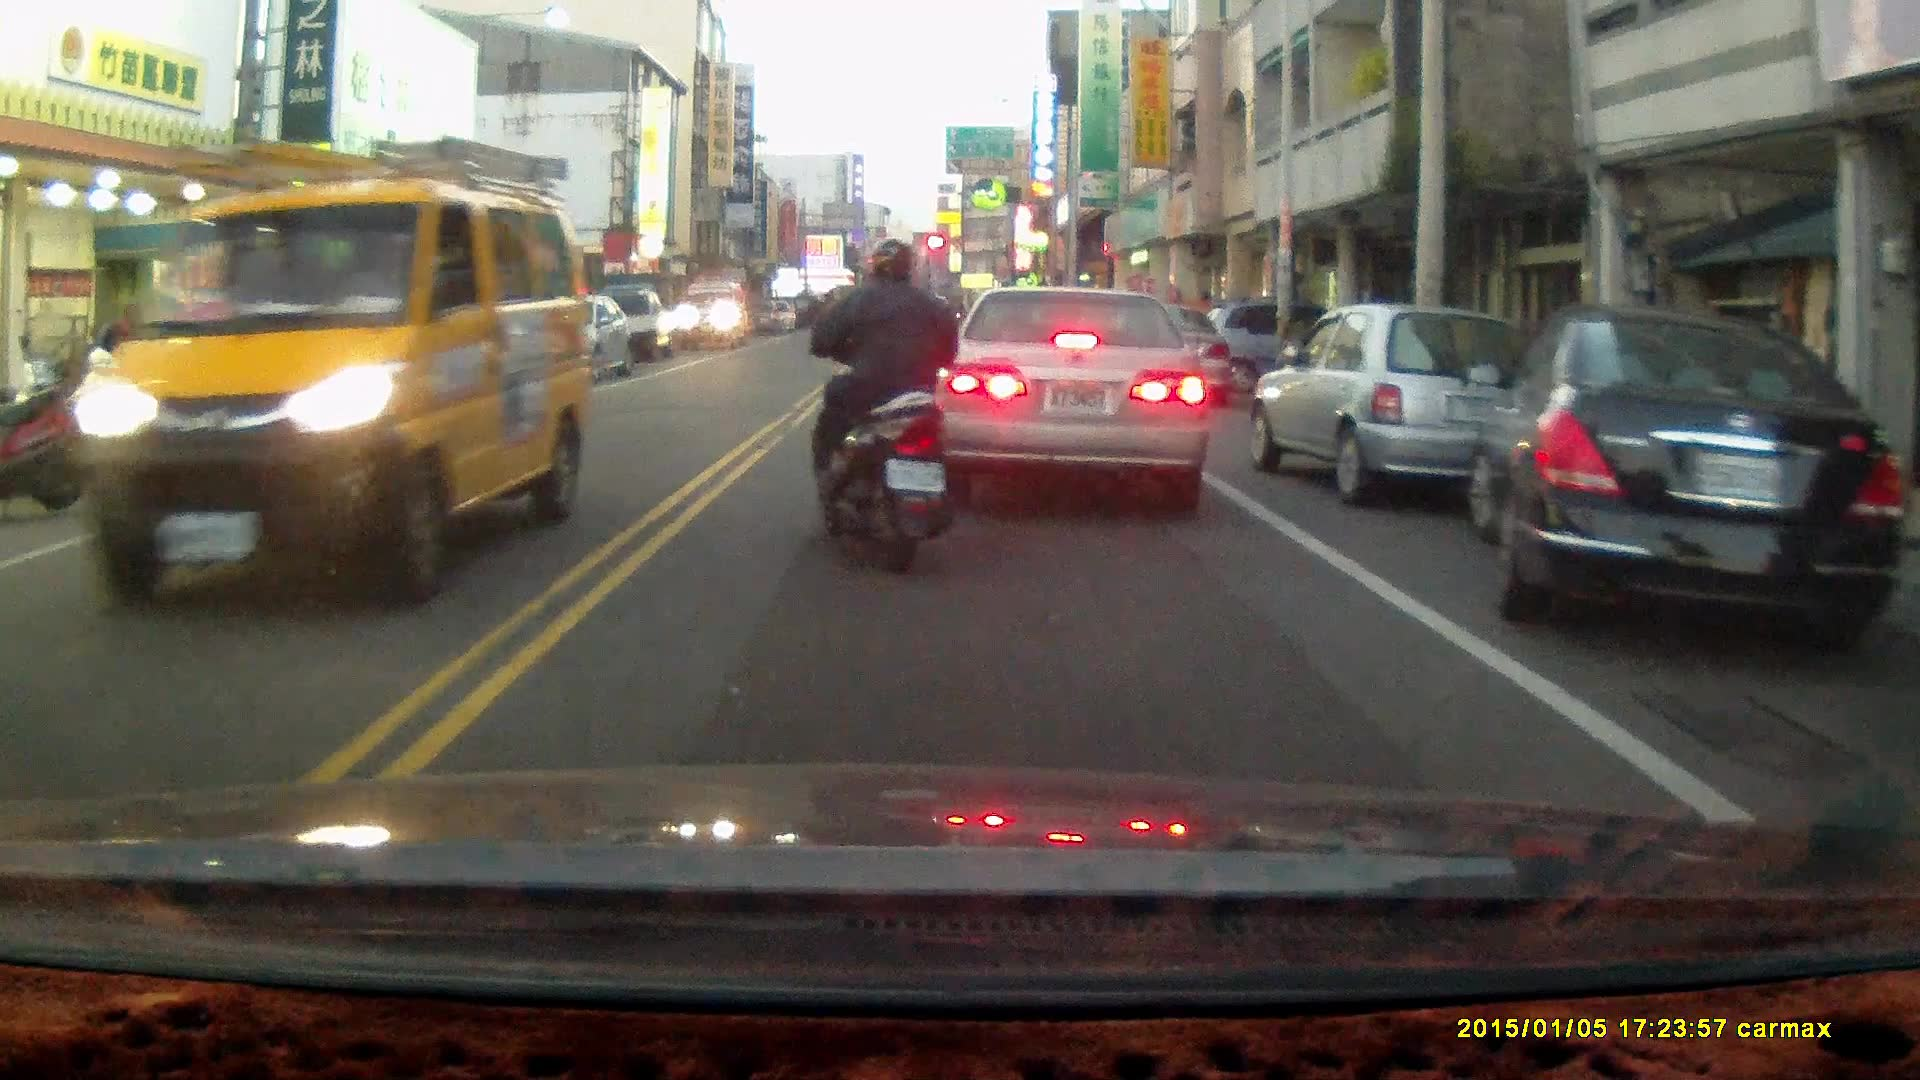rider: (805, 232, 965, 574)
vehicle: (112, 121, 565, 655), (1459, 303, 1893, 665), (931, 281, 1214, 505), (1245, 301, 1526, 507), (679, 270, 757, 340)
